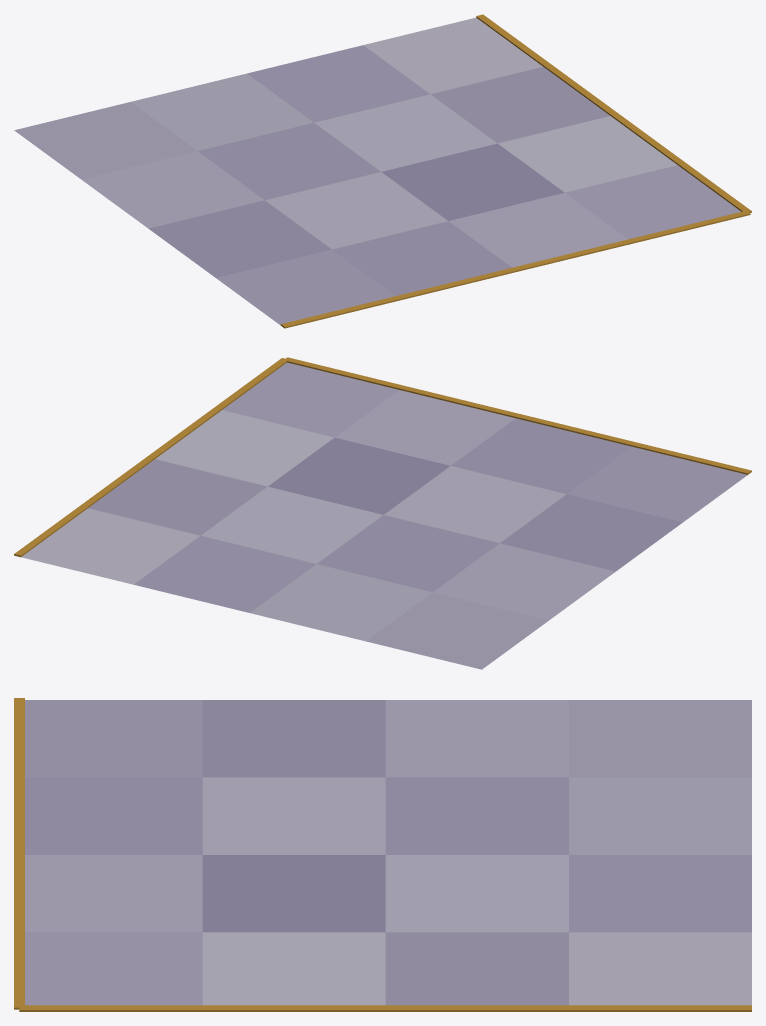
File: marble_floor.glb
3 views of the same model, one above another, from view 1: azimuth 30°, elevation 25°; view 2: azimuth 150°, elevation 25°; view 3: azimuth 270°, elevation 25° (orthographic). The views are drawn at different scales.
Visible parts, largest first — view 1: marble_floor; view 2: marble_floor; view 3: marble_floor.
Part boxes in pixels (<box>): marble_floor: <box>14,14,751,328</box>; marble_floor: <box>14,357,751,669</box>; marble_floor: <box>14,698,751,1011</box>.
Bounding box in the file's own units: 2.01 × 0.006 × 2.01.
